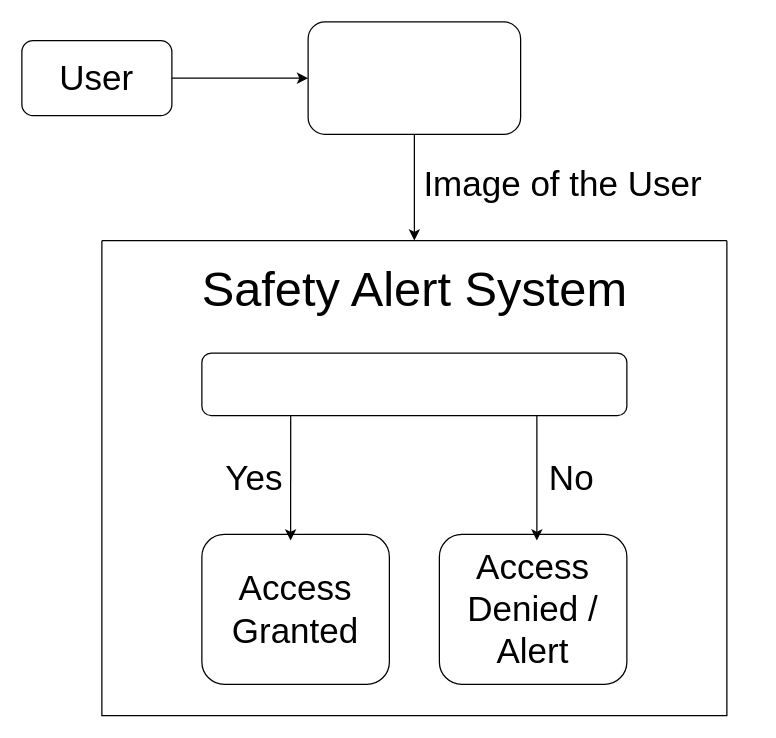
The diagram is 776 pixels wide and 738 high, and some of its shapes have lost their labels. The box of each missing label's shape, as (x1, y1, x2, y2) in pixels:
Camera: (307, 21, 521, 134)
Protective Gear Y/N: (201, 352, 627, 416)
